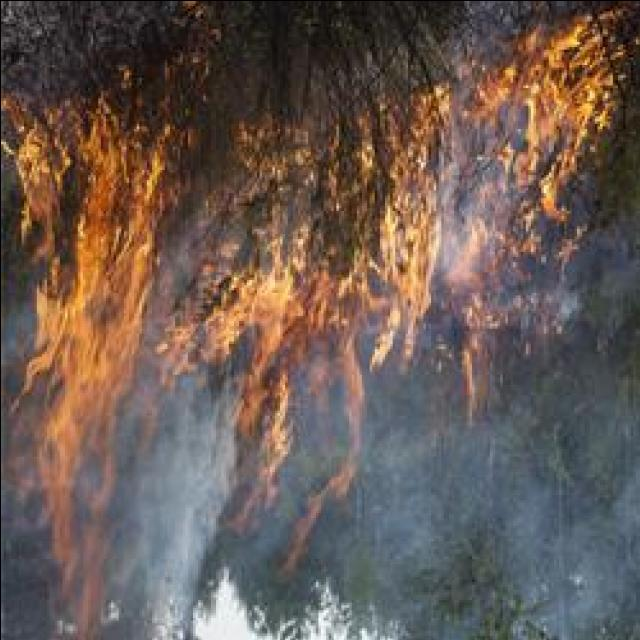fire: (54, 314, 126, 390), (245, 278, 295, 336), (76, 237, 102, 296)
smoke: (501, 482, 613, 630), (140, 440, 210, 536), (438, 221, 472, 267)
